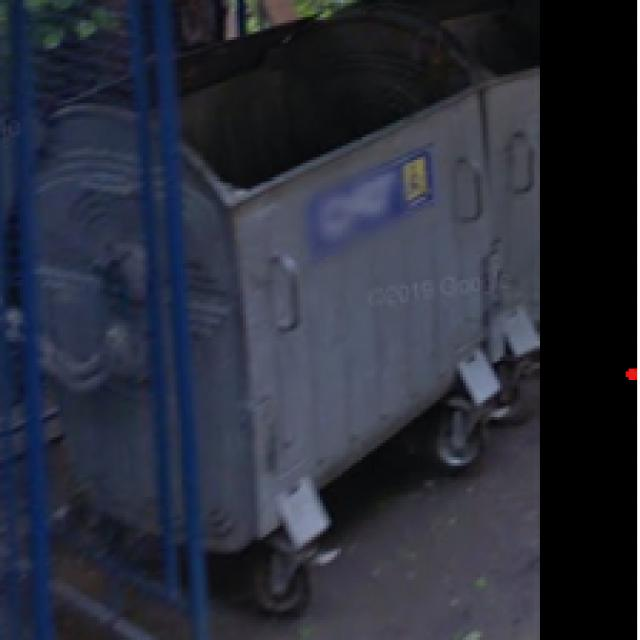general wastetrash bin: (178, 47, 487, 636)
